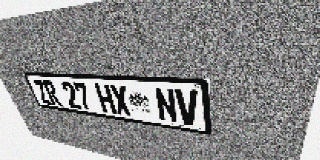2: (60, 81, 82, 109)
7: (72, 82, 94, 111)
H: (94, 84, 117, 114)
N: (154, 87, 178, 123)
R: (42, 80, 63, 106)
V: (175, 89, 199, 126)
X: (109, 84, 132, 117)
Z: (32, 80, 52, 105)
